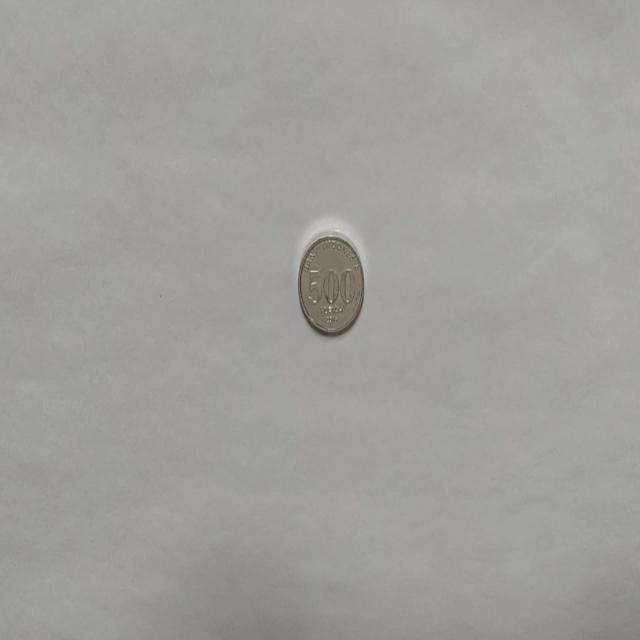lima ratus rupiah: (297, 231, 365, 336)
